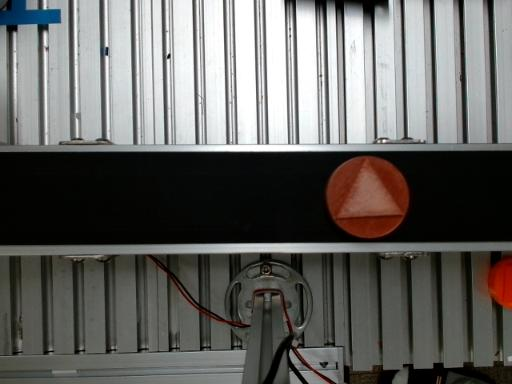Brown_Waper: (326, 156, 410, 238)
Not_Square: (333, 155, 407, 217)
